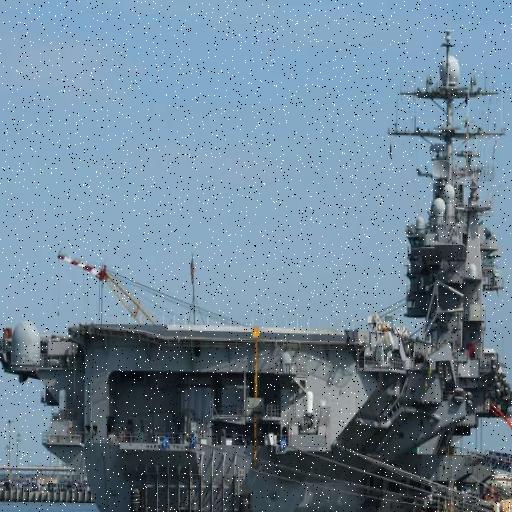Portanaves: (1, 20, 512, 512)
